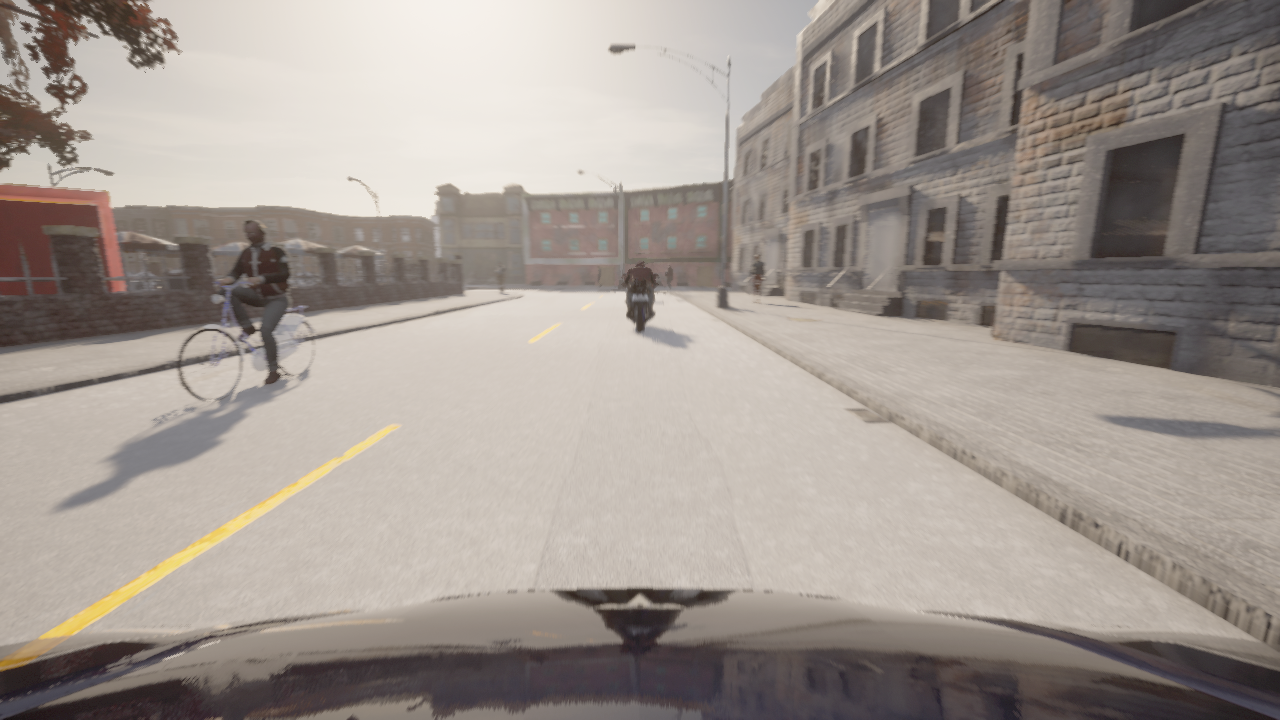cyclist: (0, 588, 1279, 719), (177, 281, 314, 401), (622, 274, 658, 333)
pedestrian: (749, 253, 765, 303), (495, 260, 506, 292), (665, 264, 673, 289), (596, 265, 602, 287)
